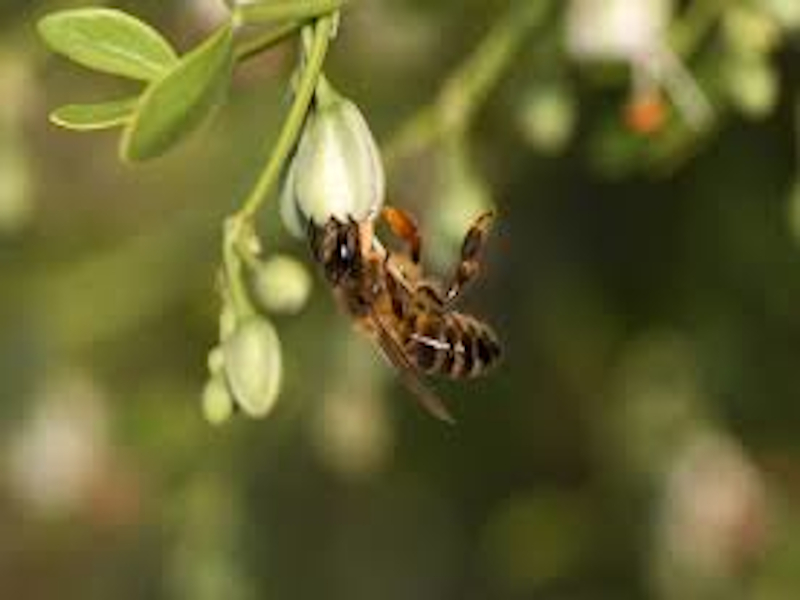abeja: (271, 188, 544, 443)
